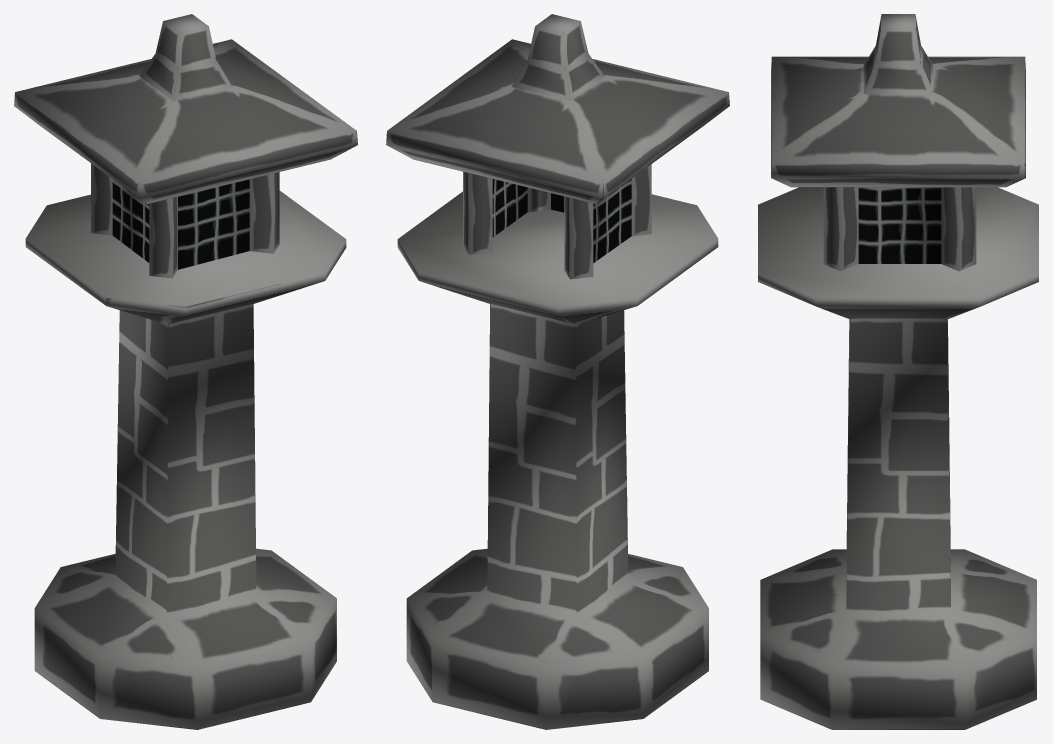
The model's file is lantern.fbx.
3 renders of one model, left to right at view 1: azimuth 30°, elevation 25°; view 2: azimuth 150°, elevation 25°; view 3: azimuth 270°, elevation 25°, orthographic.
Visible parts, largest first — view 1: Cube, Cube.001; view 2: Cube, Cube.001; view 3: Cube, Cube.001.
Part boxes in pixels (<box>): Cube: <box>14,14,357,729</box>; Cube.001: <box>91,163,279,278</box>; Cube: <box>386,14,729,729</box>; Cube.001: <box>463,164,651,279</box>; Cube: <box>758,14,1038,729</box>; Cube.001: <box>823,187,976,271</box>.
Size of the model in its own units: 161 by 411 by 161.
Materials: 2 (2 with a texture image).
